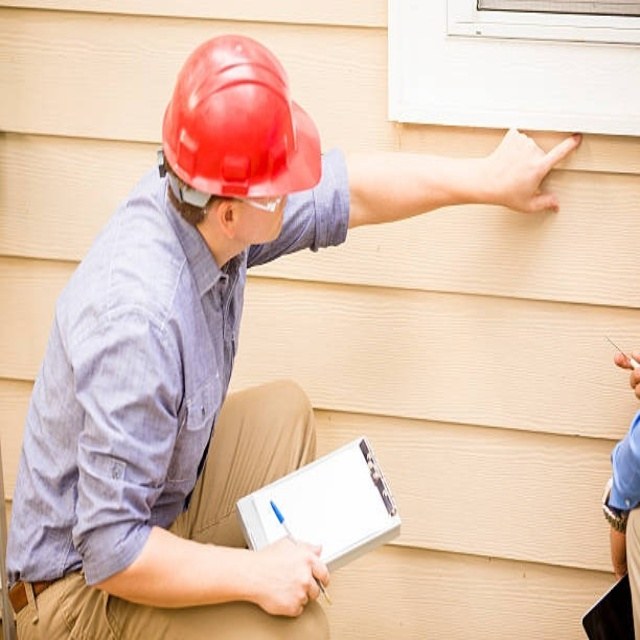Gafas: (238, 191, 293, 223)
Sin_guantes: (490, 126, 584, 215), (251, 535, 333, 618)
